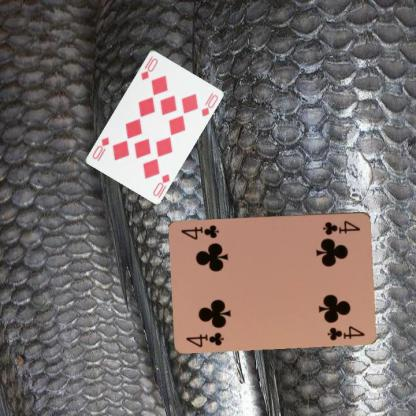10d: (138, 54, 159, 81), (150, 171, 171, 197)
4c: (320, 218, 362, 236), (184, 330, 225, 348)
